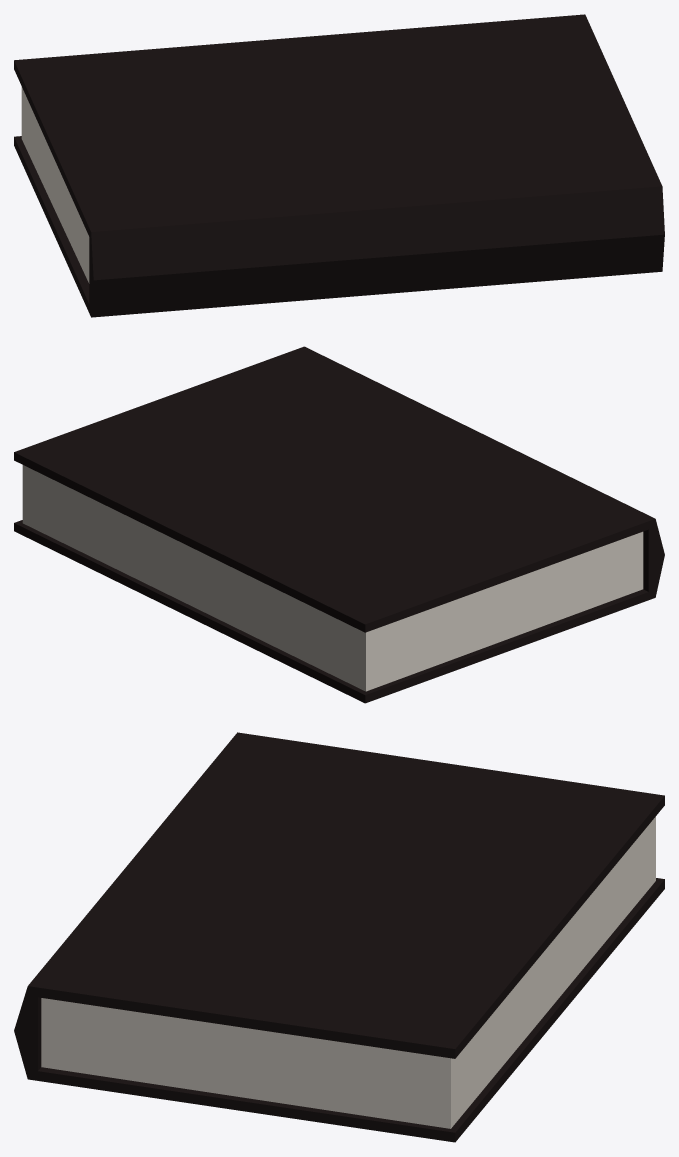
File: ksiazka.fbx
3 views of the same model, one above another, from view 1: azimuth 30°, elevation 25°; view 2: azimuth 150°, elevation 25°; view 3: azimuth 270°, elevation 25° (orthographic). The views are drawn at different scales.
Visible parts, largest first — view 1: ksiazka4; view 2: ksiazka4; view 3: ksiazka4.
Boxes of the visible parts, x1,y1,x2,y2 form: ksiazka4: (14,14,664,317); ksiazka4: (14,346,664,703); ksiazka4: (14,732,664,1142).
Size of the model in its own units: 195 by 226 by 30.79.
